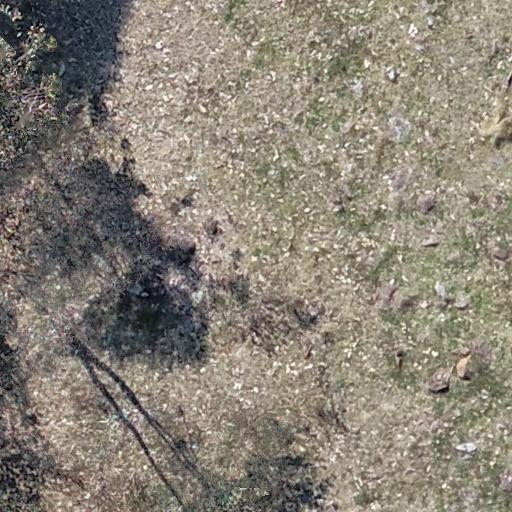stone: (384, 114, 415, 141), (416, 189, 446, 211), (434, 364, 450, 398), (458, 352, 475, 382), (489, 247, 512, 266), (405, 22, 421, 42), (182, 69, 198, 89), (306, 302, 325, 318), (434, 280, 448, 301), (454, 290, 466, 314), (387, 62, 400, 84), (430, 230, 444, 250), (327, 197, 352, 208), (488, 191, 500, 211)
